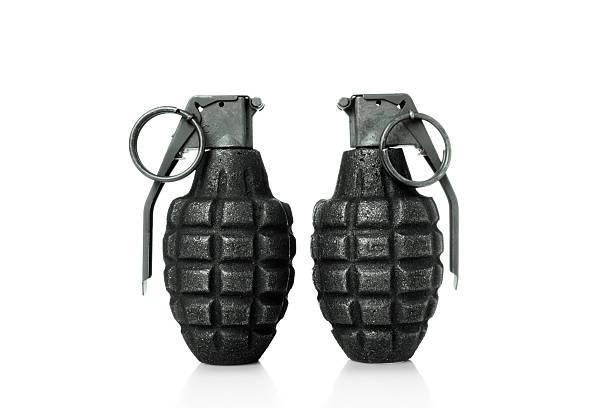Grenade: (127, 93, 296, 365), (308, 91, 459, 363)
